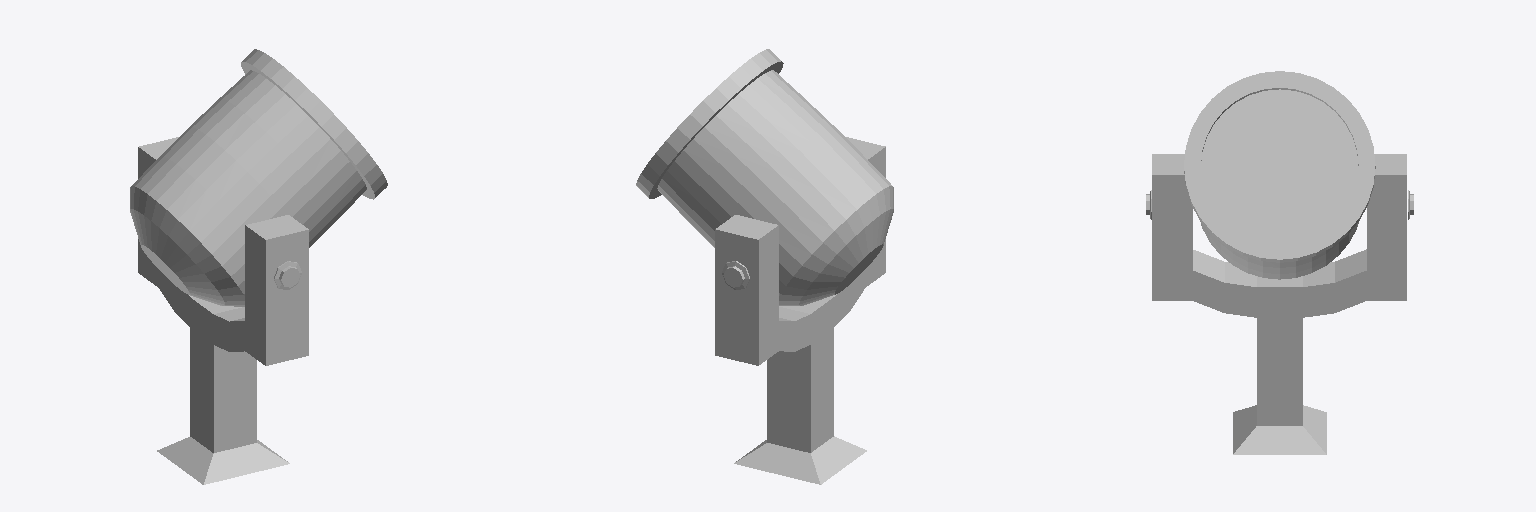
The model's file is spotlight.obj.
3 views of the same model, side by side, from view 1: azimuth 30°, elevation 25°; view 2: azimuth 150°, elevation 25°; view 3: azimuth 270°, elevation 25° (orthographic).
Parts seen in each view (by area): view 1: Spot; view 2: Spot; view 3: Spot.
Boxes of the visible parts, <box> form: Spot: <box>130,49,387,484</box>; Spot: <box>636,49,893,484</box>; Spot: <box>1146,71,1413,454</box>.
Size of the model in its own units: 0.2018 by 0.3327 by 0.2094.